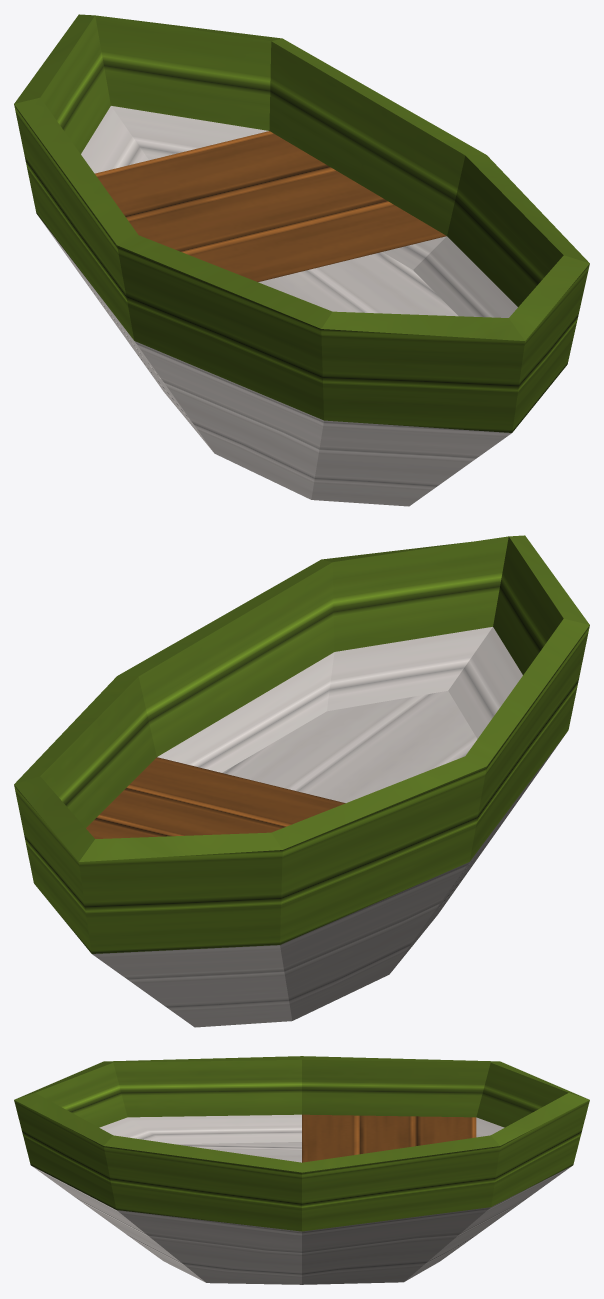
Rendered from co_Boat02.fbx.
The picture shows the model from 3 angles, top to bottom: view 1: azimuth 30°, elevation 25°; view 2: azimuth 150°, elevation 25°; view 3: azimuth 270°, elevation 25°; orthographic projection. The views are drawn at different scales.
Visible parts, largest first — view 1: Boat02; view 2: Boat02; view 3: Boat02.
Boxes of the visible parts, x1=… form: Boat02: x1=14, y1=14, x2=589, y2=506; Boat02: x1=14, y1=535, x2=589, y2=1027; Boat02: x1=14, y1=1056, x2=589, y2=1284.
Size of the model in its own units: 751 by 515 by 1569.
